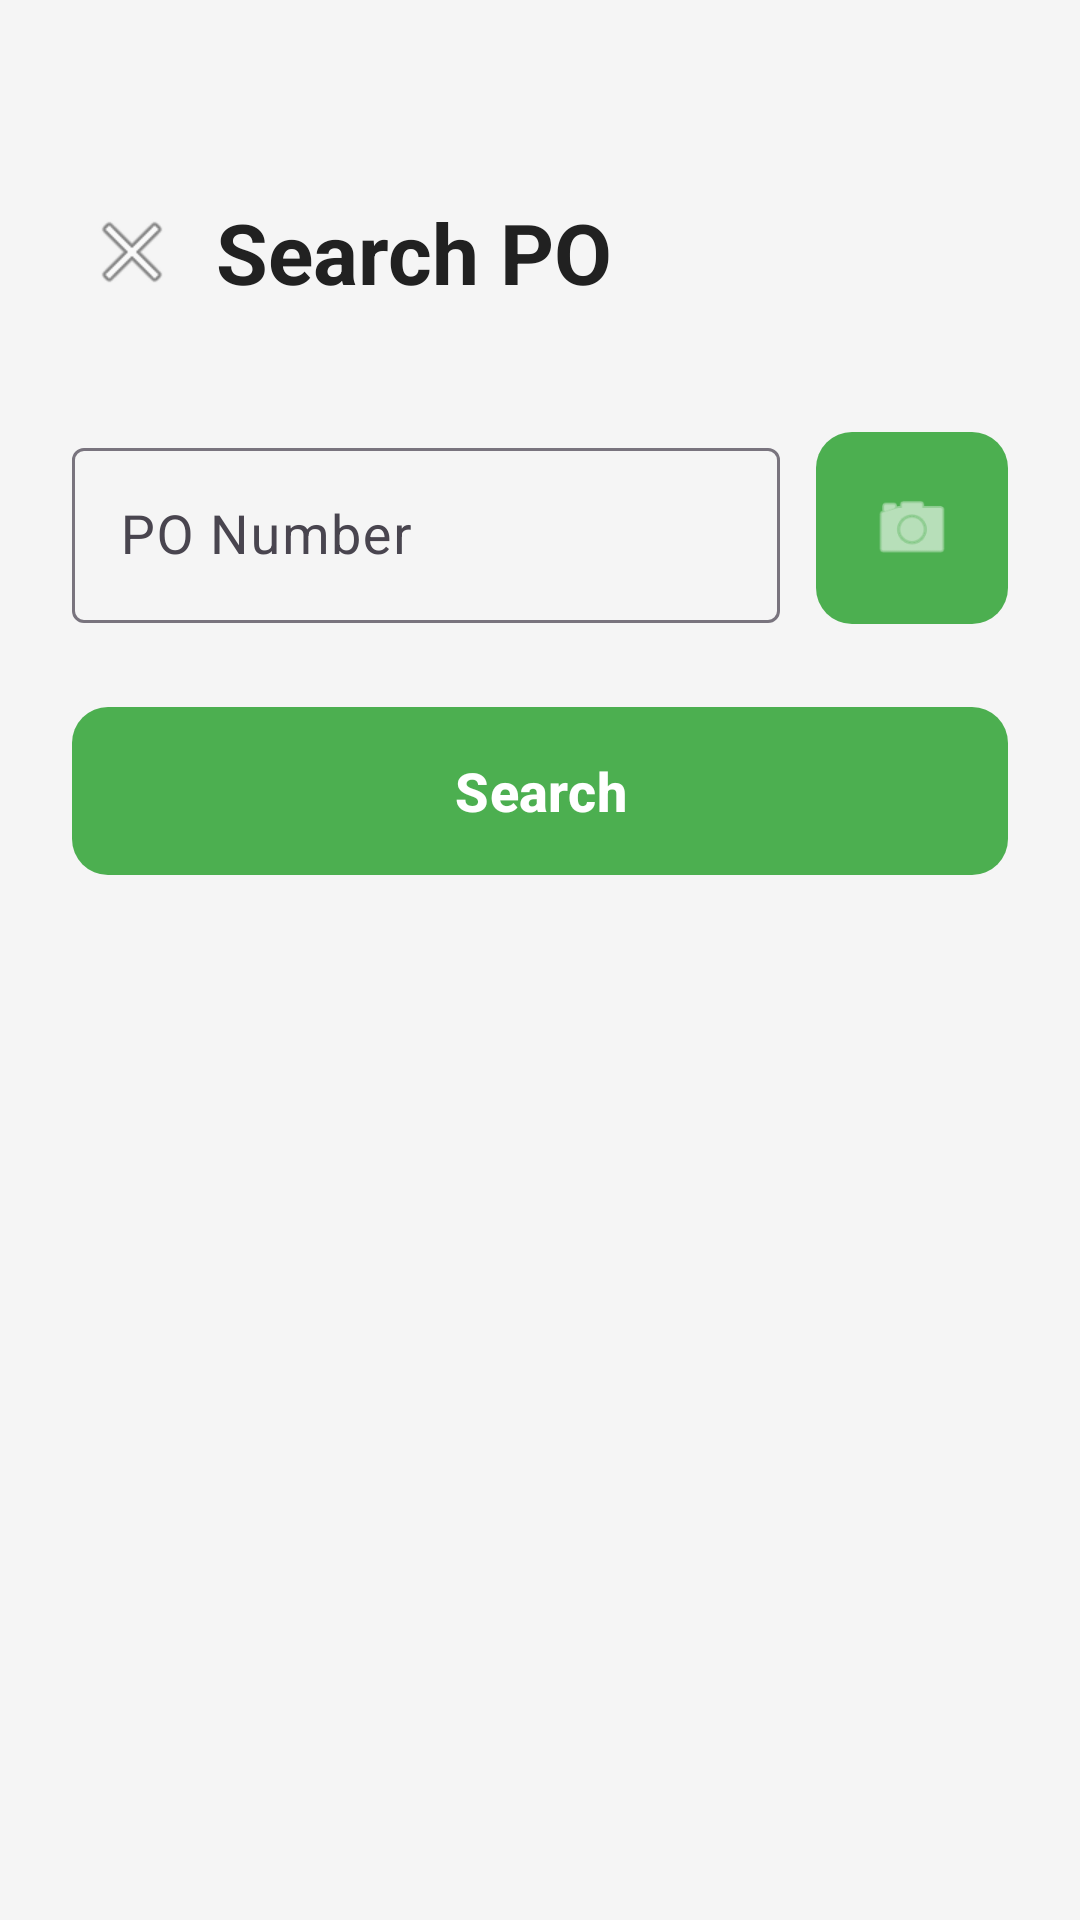

Named icons in this screenshot (1080x1920) and their centers, (x=x, y=y):
Back: (x=132, y=252)
Scan QR Code: (x=912, y=528)
